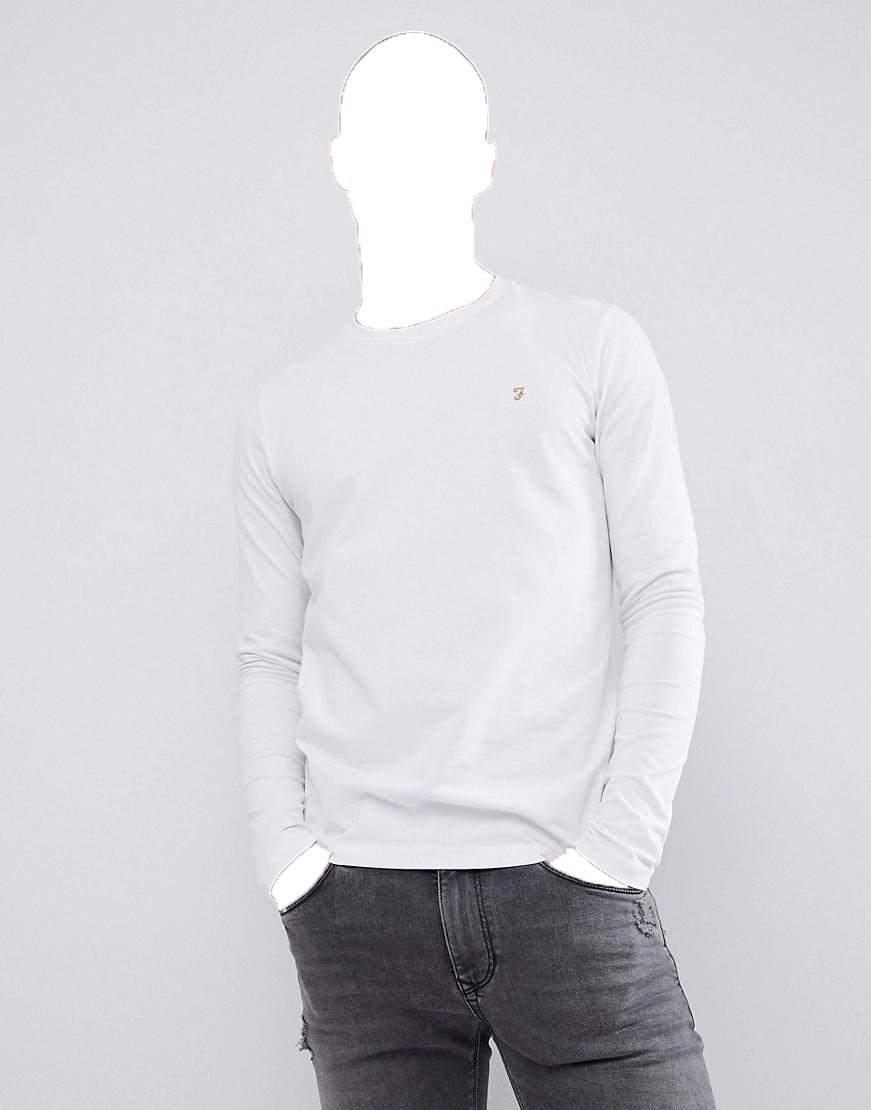teeshirt: (218, 288, 747, 908)
